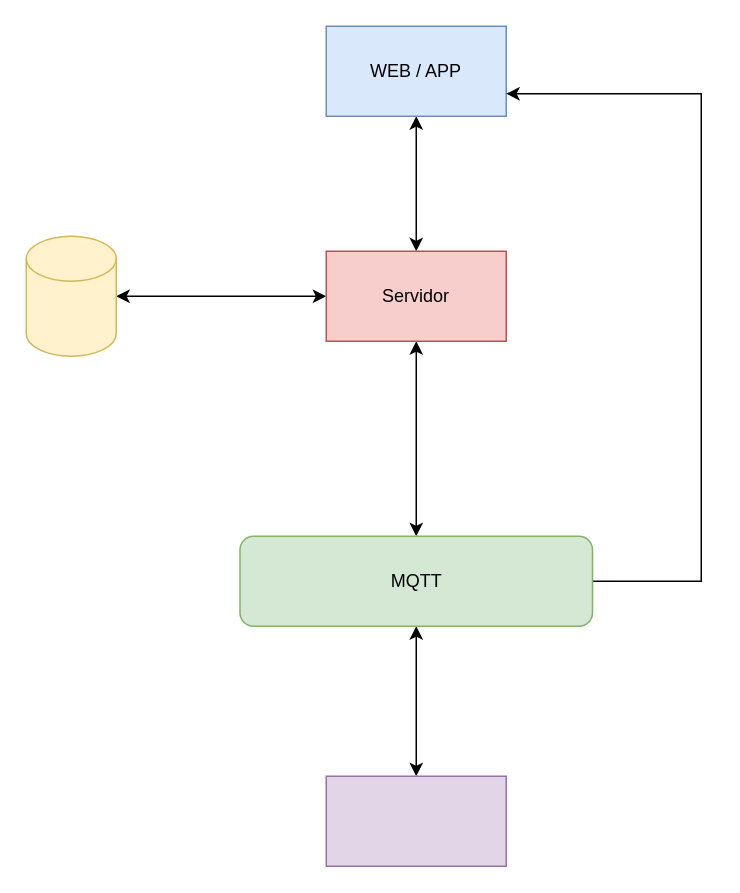
The diagram is 740 pixels wide and 893 high, and some of its shapes have lost their labels. The centre of each missing label's shape, as x and y in pixels:
"MariaDB" belongs at (70,295).
"NodeMCU" belongs at (415,820).
